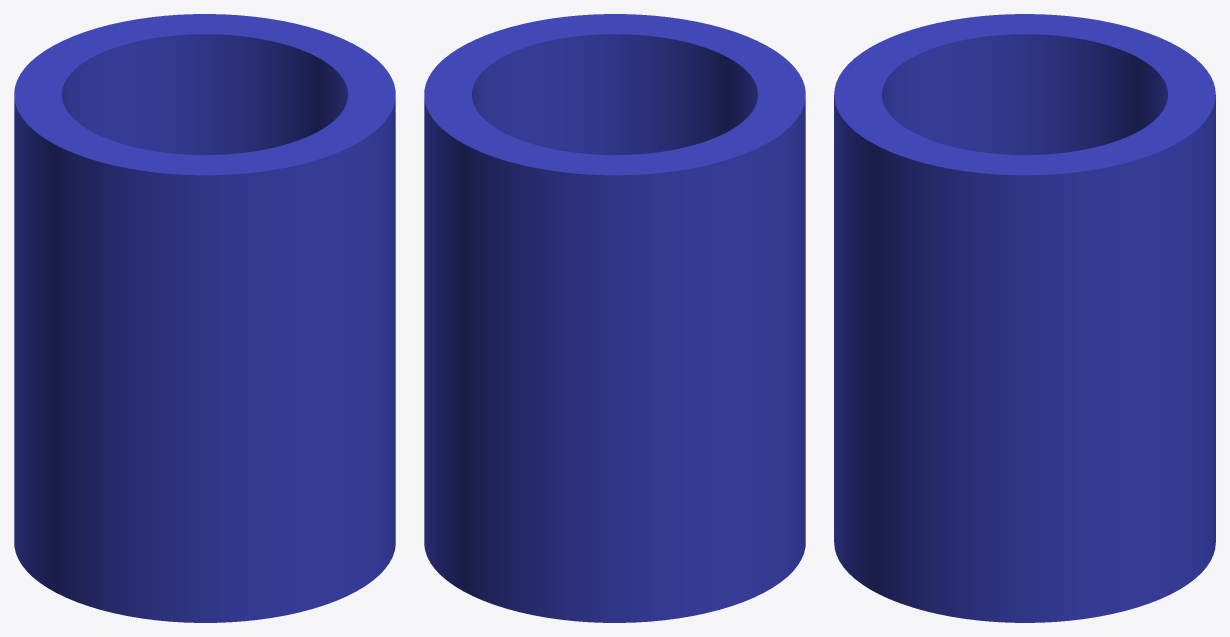
File: glass22.fbx
3 renders of one model, left to right at view 1: azimuth 30°, elevation 25°; view 2: azimuth 150°, elevation 25°; view 3: azimuth 270°, elevation 25°, orthographic.
Visible parts, largest first — view 1: root; view 2: root; view 3: root.
Part boxes in pixels (x1,y1,x2,y2): root: (14,14,395,622); root: (424,14,805,622); root: (834,14,1215,622).
Bounding box in the file's own units: 4.84 × 6.26 × 4.84.
